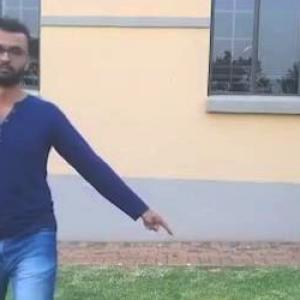land: (1, 44, 166, 299)
